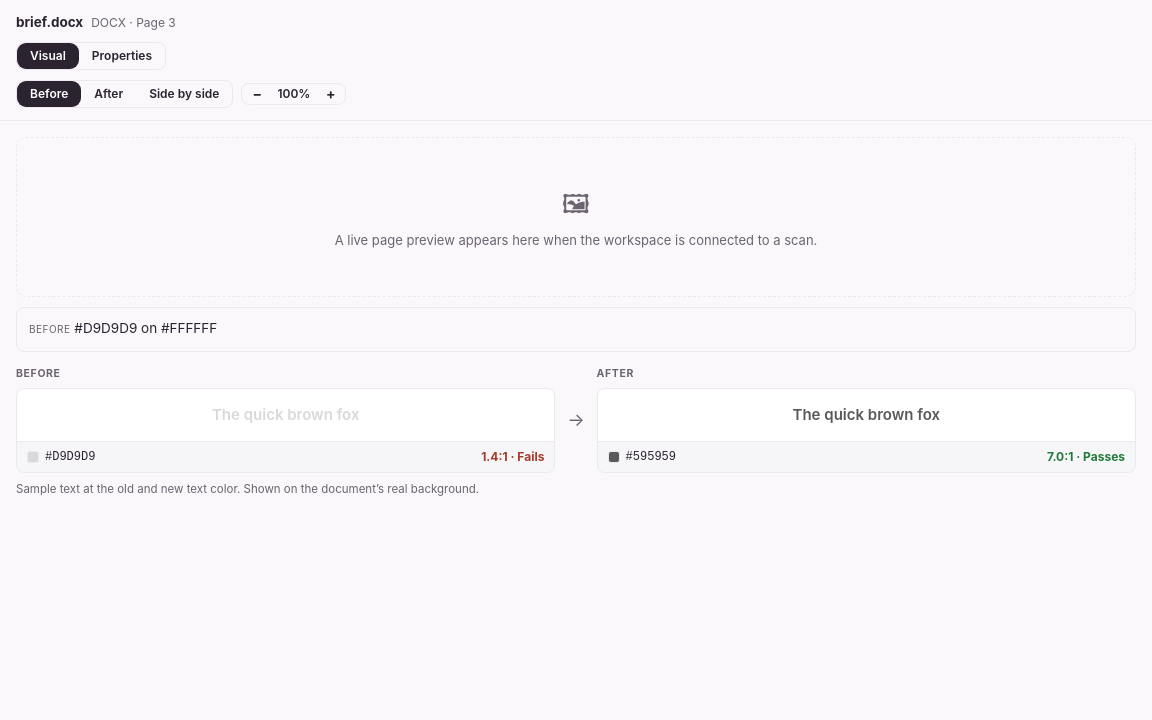
Test: RemediationPreview — adaptive view modes › Properties mode surfaces the finding’s file, format, WCAG code, severity and source
Click the tab "Properties". click: (122, 56)
box: [79, 43, 165, 69]
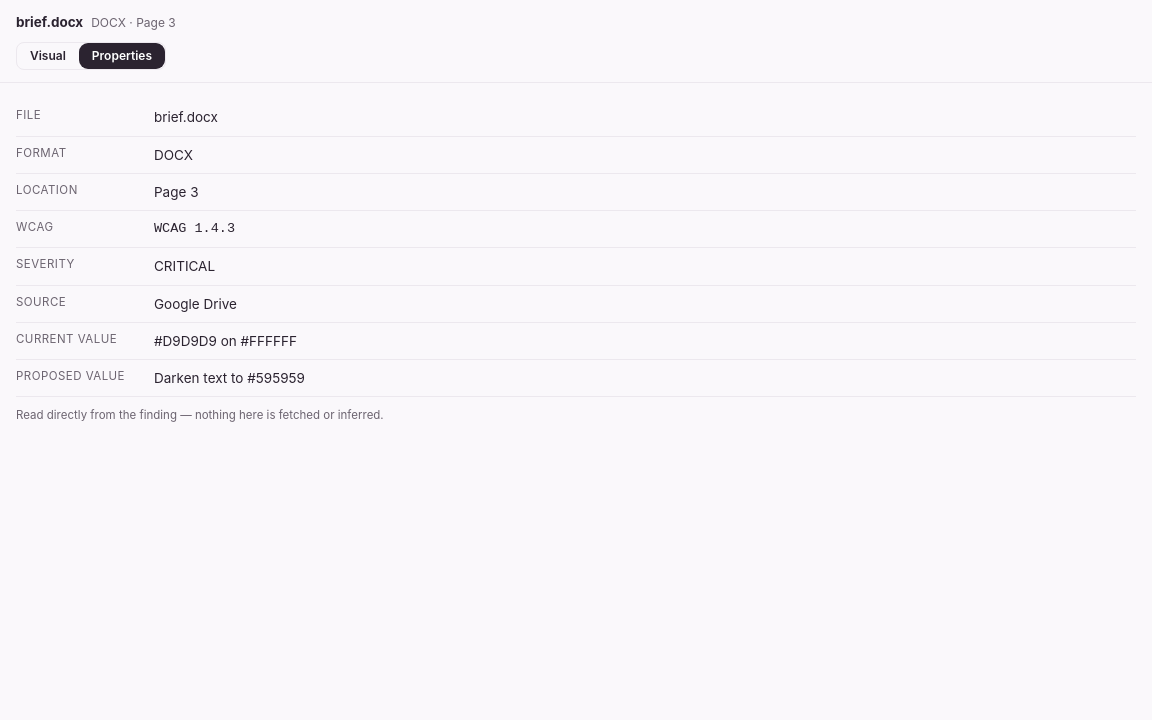
Check: the text "WCAG 1.4.3" is shown, box [154, 221, 235, 236]
Check: the text "CRITICAL" is shown, box [154, 258, 215, 274]
Check: the text "Google Drive" is shown, box [154, 296, 237, 312]
